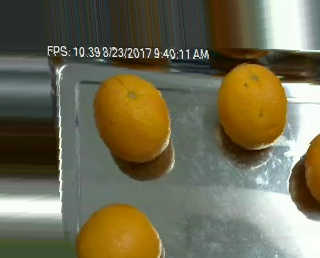Orange: (93, 72, 171, 162), (218, 63, 289, 149)
